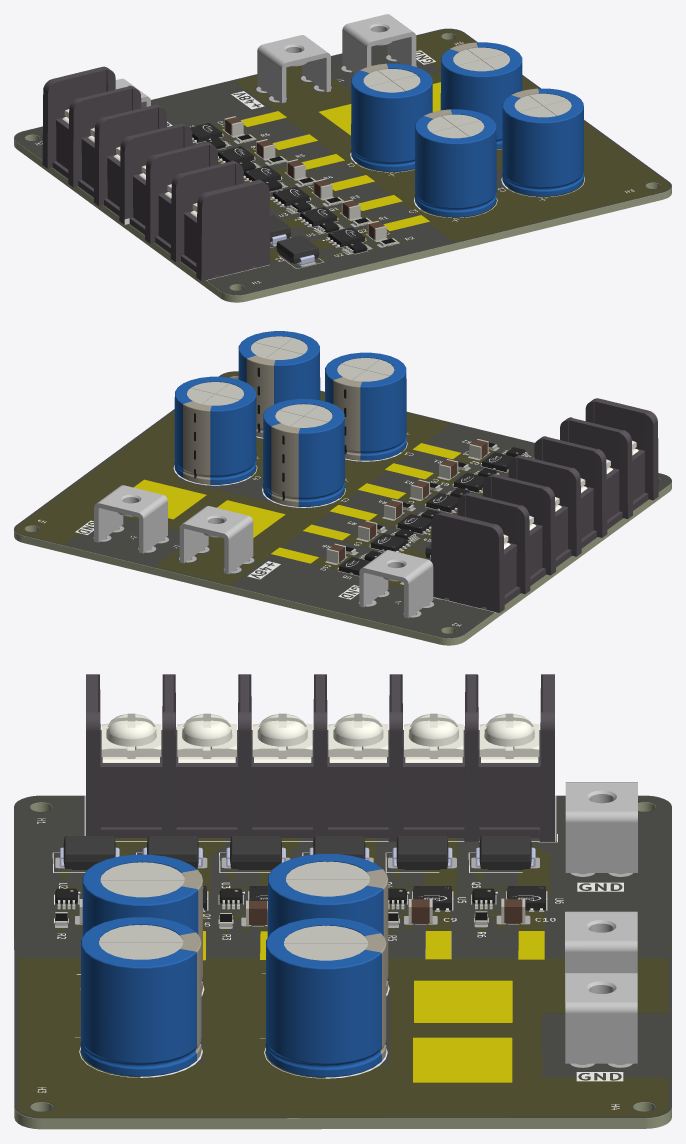
The model's file is Tet_Hlan_Diode_Network.glb.
3 renders of one model, top to bottom at view 1: azimuth 30°, elevation 25°; view 2: azimuth 150°, elevation 25°; view 3: azimuth 270°, elevation 25°, orthographic. The views are drawn at different scales.
Parts seen in each view (by area): view 1: =>[0:1:1:15], J3, =>[0:1:1:17], =>[0:1:1:10], C3, C2, C1, C4, J1, J2, =>[0:1:1:5] (×4), =>[0:1:1:13] (+3 smaller); view 2: =>[0:1:1:15], J3, =>[0:1:1:17], =>[0:1:1:10], C4, C1, C3, C2, J1, J4, J2, =>[0:1:1:13] (+2 smaller); view 3: =>[0:1:1:15], =>[0:1:1:10], J3, =>[0:1:1:17], C4, C2, C1, C3, J4, J2, J1, =>[0:1:1:13] (+8 smaller).
Boxes of the visible parts, <box> form: =>[0:1:1:15]: <box>14,28,671,295</box>; J3: <box>42,66,270,281</box>; =>[0:1:1:17]: <box>14,29,671,302</box>; =>[0:1:1:10]: <box>193,30,668,260</box>; C3: <box>415,109,496,217</box>; C2: <box>502,88,583,196</box>; C1: <box>351,63,432,171</box>; C4: <box>440,42,522,149</box>; J1: <box>257,35,330,102</box>; J2: <box>342,14,416,73</box>; =>[0:1:1:5] (×4): <box>190,123,365,247</box>; =>[0:1:1:13]: <box>35,41,634,284</box>; =>[0:1:1:15]: <box>14,371,671,638</box>; J3: <box>431,398,658,612</box>; =>[0:1:1:17]: <box>14,372,671,645</box>; =>[0:1:1:10]: <box>17,373,533,587</box>; C4: <box>174,376,256,484</box>; C1: <box>263,399,344,506</box>; C3: <box>325,352,406,460</box>; C2: <box>238,331,320,437</box>; J1: <box>179,506,253,574</box>; J4: <box>359,550,433,618</box>; J2: <box>94,485,167,553</box>; =>[0:1:1:13]: <box>38,433,533,626</box>; =>[0:1:1:15]: <box>14,795,671,1118</box>; =>[0:1:1:10]: <box>18,838,667,1116</box>; J3: <box>86,674,554,841</box>; =>[0:1:1:17]: <box>14,796,671,1129</box>; C4: <box>265,918,386,1077</box>; C2: <box>80,917,201,1076</box>; C1: <box>267,854,388,992</box>; C3: <box>82,854,202,992</box>; J4: <box>565,782,637,874</box>; J2: <box>565,973,637,1064</box>; J1: <box>565,911,637,1001</box>; =>[0:1:1:13]: <box>37,795,623,1109</box>.
Bounding box in the file's own units: 0.1021 × 0.0235 × 0.087.
